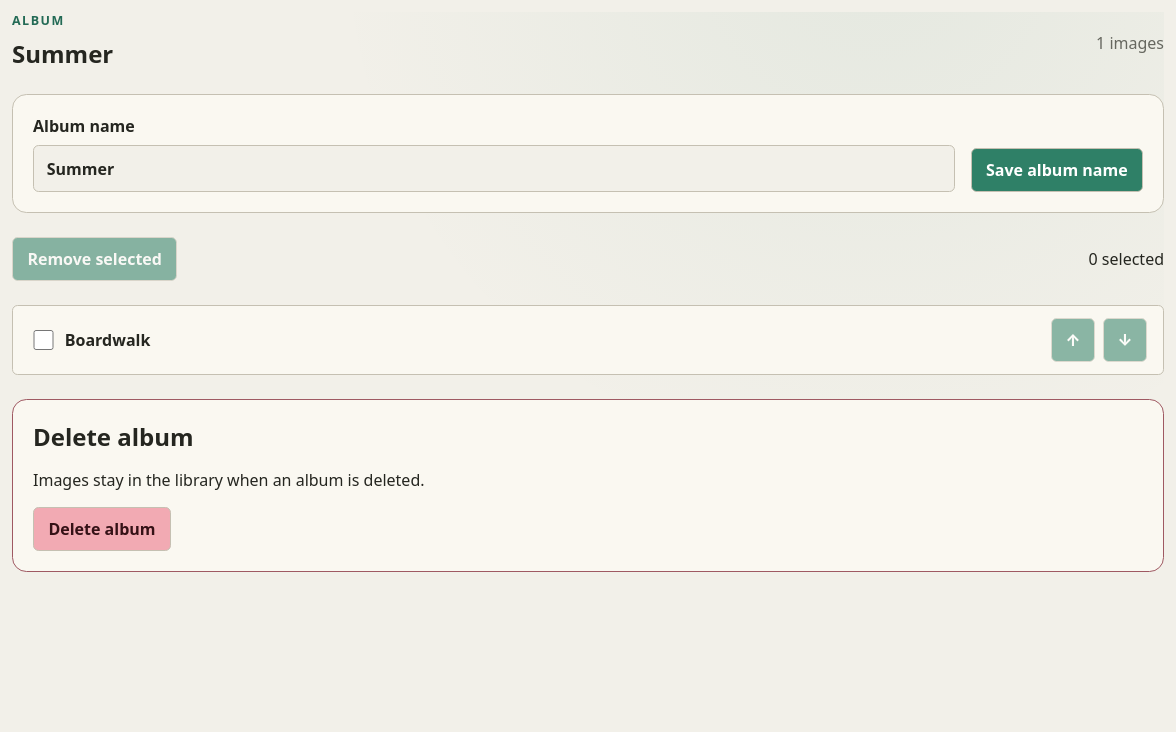
Scenario: curation albums › optimistically renames and restores the server version after an ETag conflict
Expected: the heading "Summer" is shown, [12,37,113,70]
Replace the text in the field labelled "Album name" with "Beach days" at coordinates (494, 168), box [33,145,955,192]
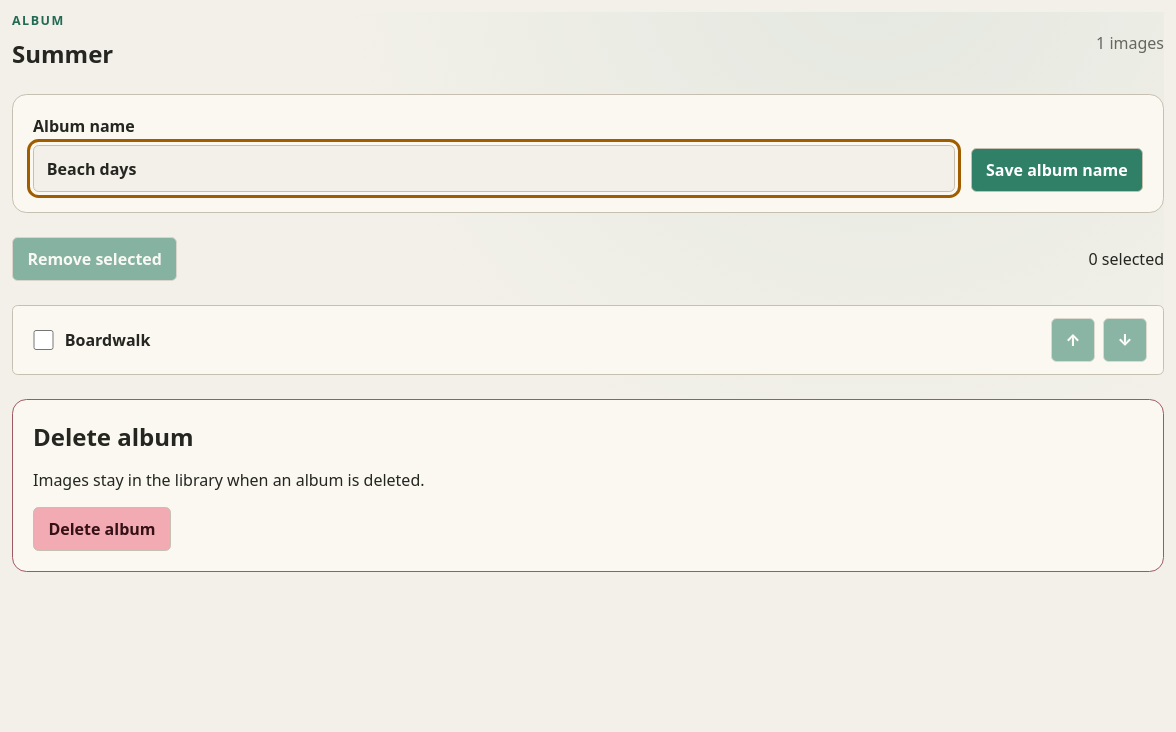
Click the button "Save album name" at coordinates (1057, 170), box [971,148,1143,192]
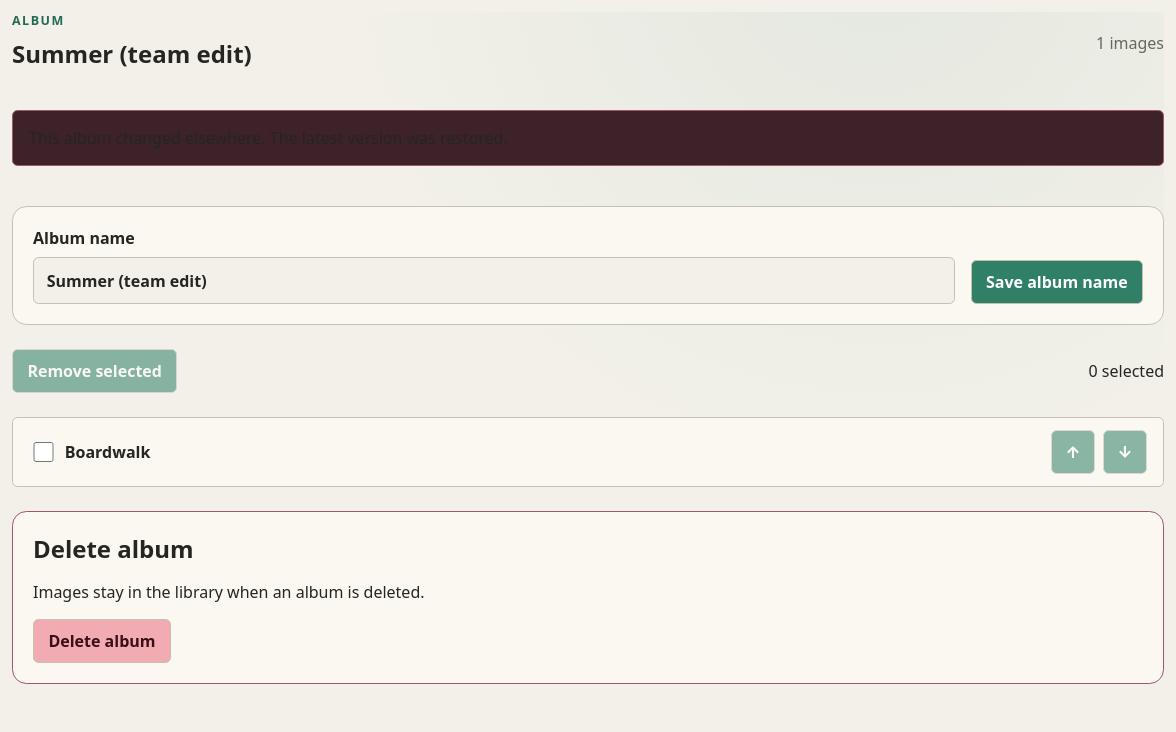
Expected: the heading "Summer (team edit)" is shown, [12,37,252,70]
Expected: the message reads "This album changed elsewhere. The latest version was restored.", [29,127,508,149]
